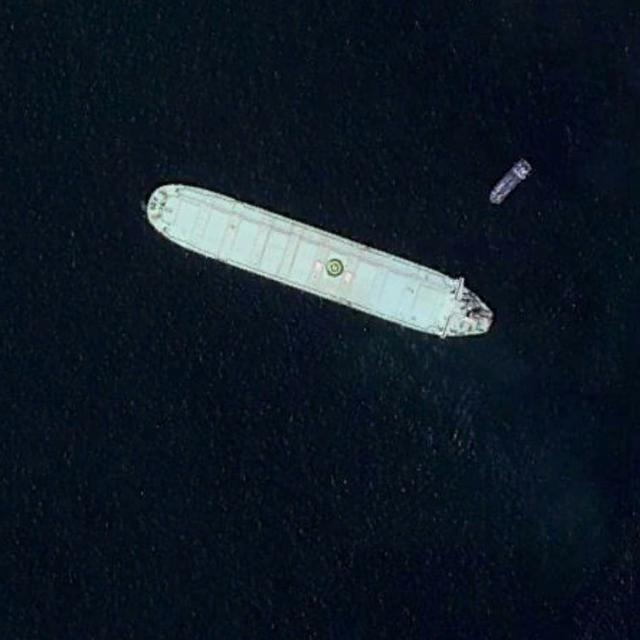ship: (146, 182, 494, 340), (488, 156, 534, 206)
